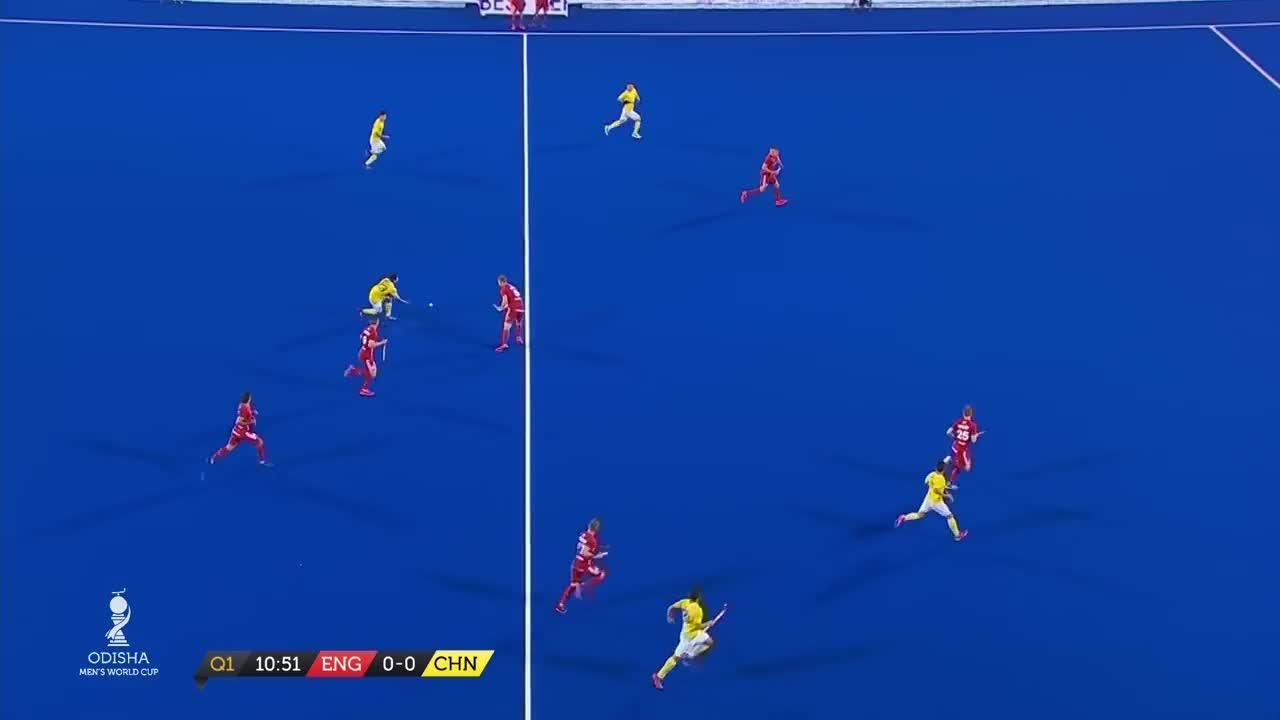ball: (425, 302, 436, 310)
